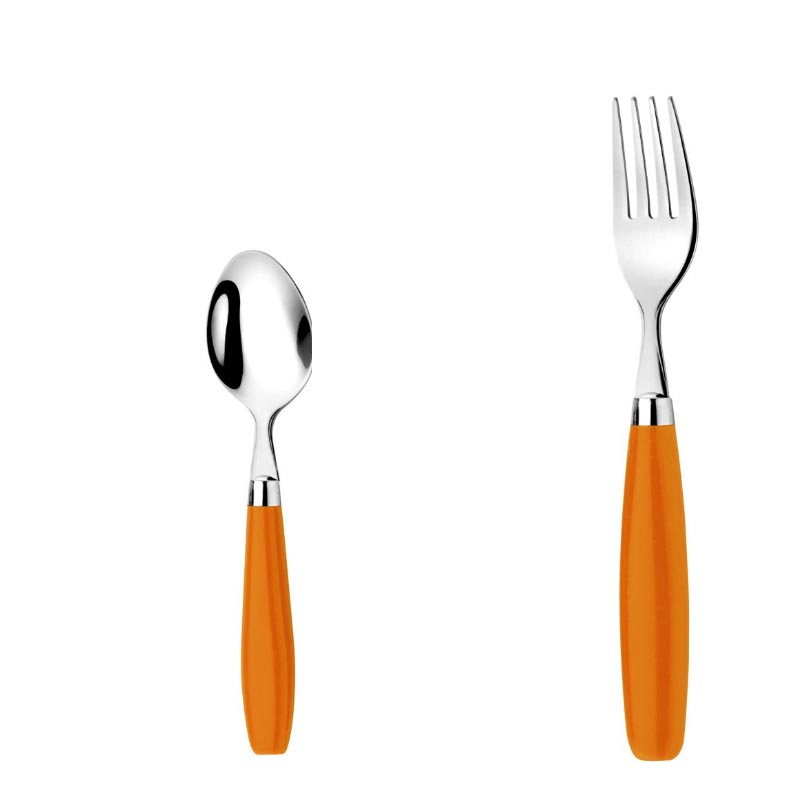Lyzka: (203, 249, 314, 414)
Widelec: (604, 91, 703, 320)
